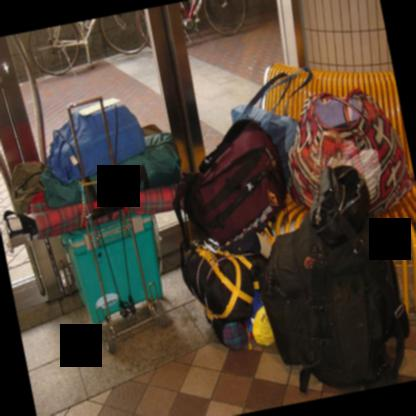backpack: (256, 165, 409, 393), (179, 116, 290, 249)
handbag: (288, 88, 415, 220), (231, 65, 313, 192)
suitcase: (60, 98, 162, 326), (180, 238, 259, 320)
